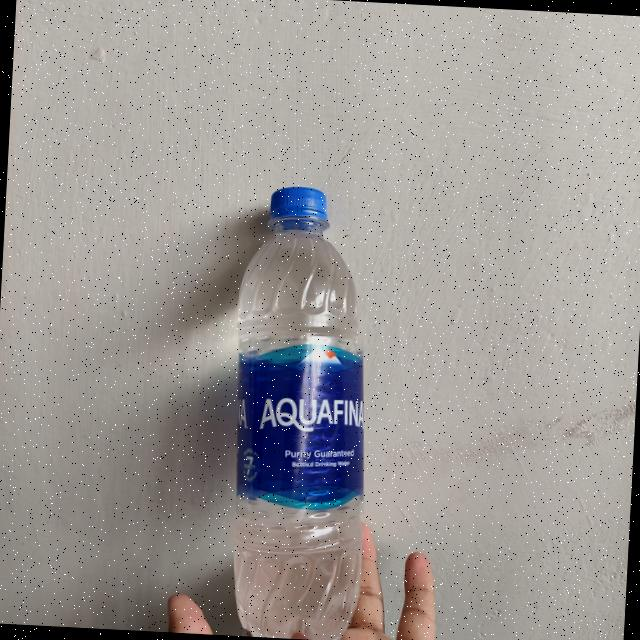bottle: (207, 178, 380, 640)
cap: (270, 180, 337, 238)
label: (228, 340, 366, 514)
